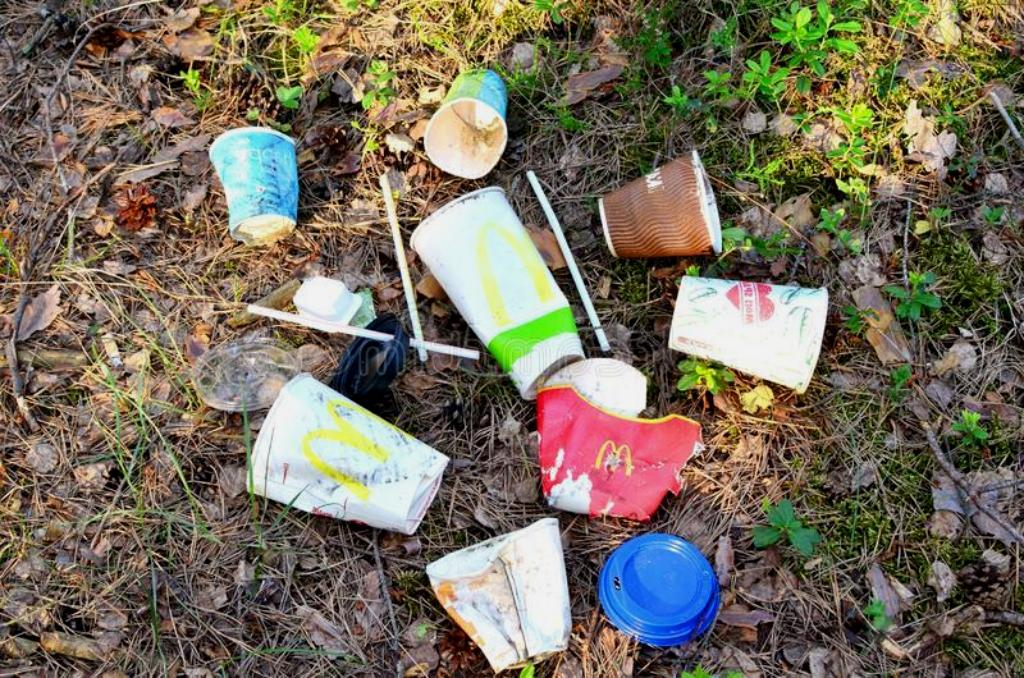garbage: (408, 188, 585, 400), (245, 370, 451, 533), (524, 385, 703, 519), (423, 522, 572, 675), (671, 274, 829, 394), (595, 529, 723, 645), (602, 145, 721, 262), (209, 124, 297, 241), (424, 64, 509, 185)
